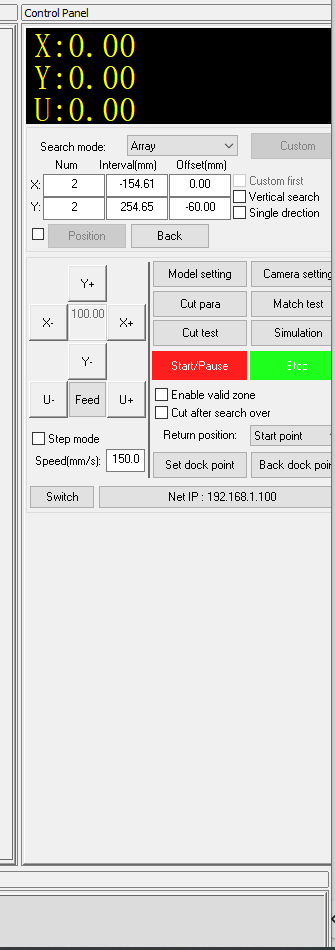start: (151, 349, 247, 381)
timer: (168, 155, 231, 219)
